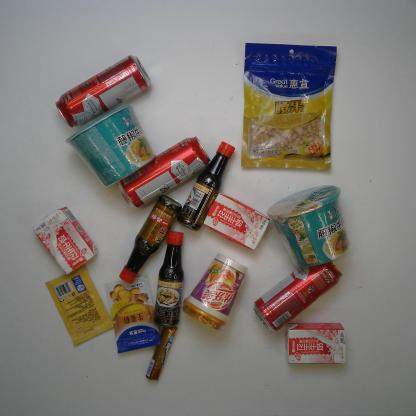Alcohol: (54, 52, 154, 129), (117, 136, 215, 210), (254, 251, 343, 332)
Candy: (147, 324, 177, 382)
Dried Fruit: (239, 40, 338, 172)
Instant Drink: (183, 252, 249, 337)
Instant Noodles: (62, 101, 158, 188), (266, 184, 352, 270)
Milk: (30, 207, 100, 275), (202, 190, 271, 250), (283, 316, 349, 369)
Seasoner: (119, 192, 179, 285), (46, 264, 112, 347), (178, 139, 236, 230), (102, 272, 158, 350), (153, 228, 185, 328)
